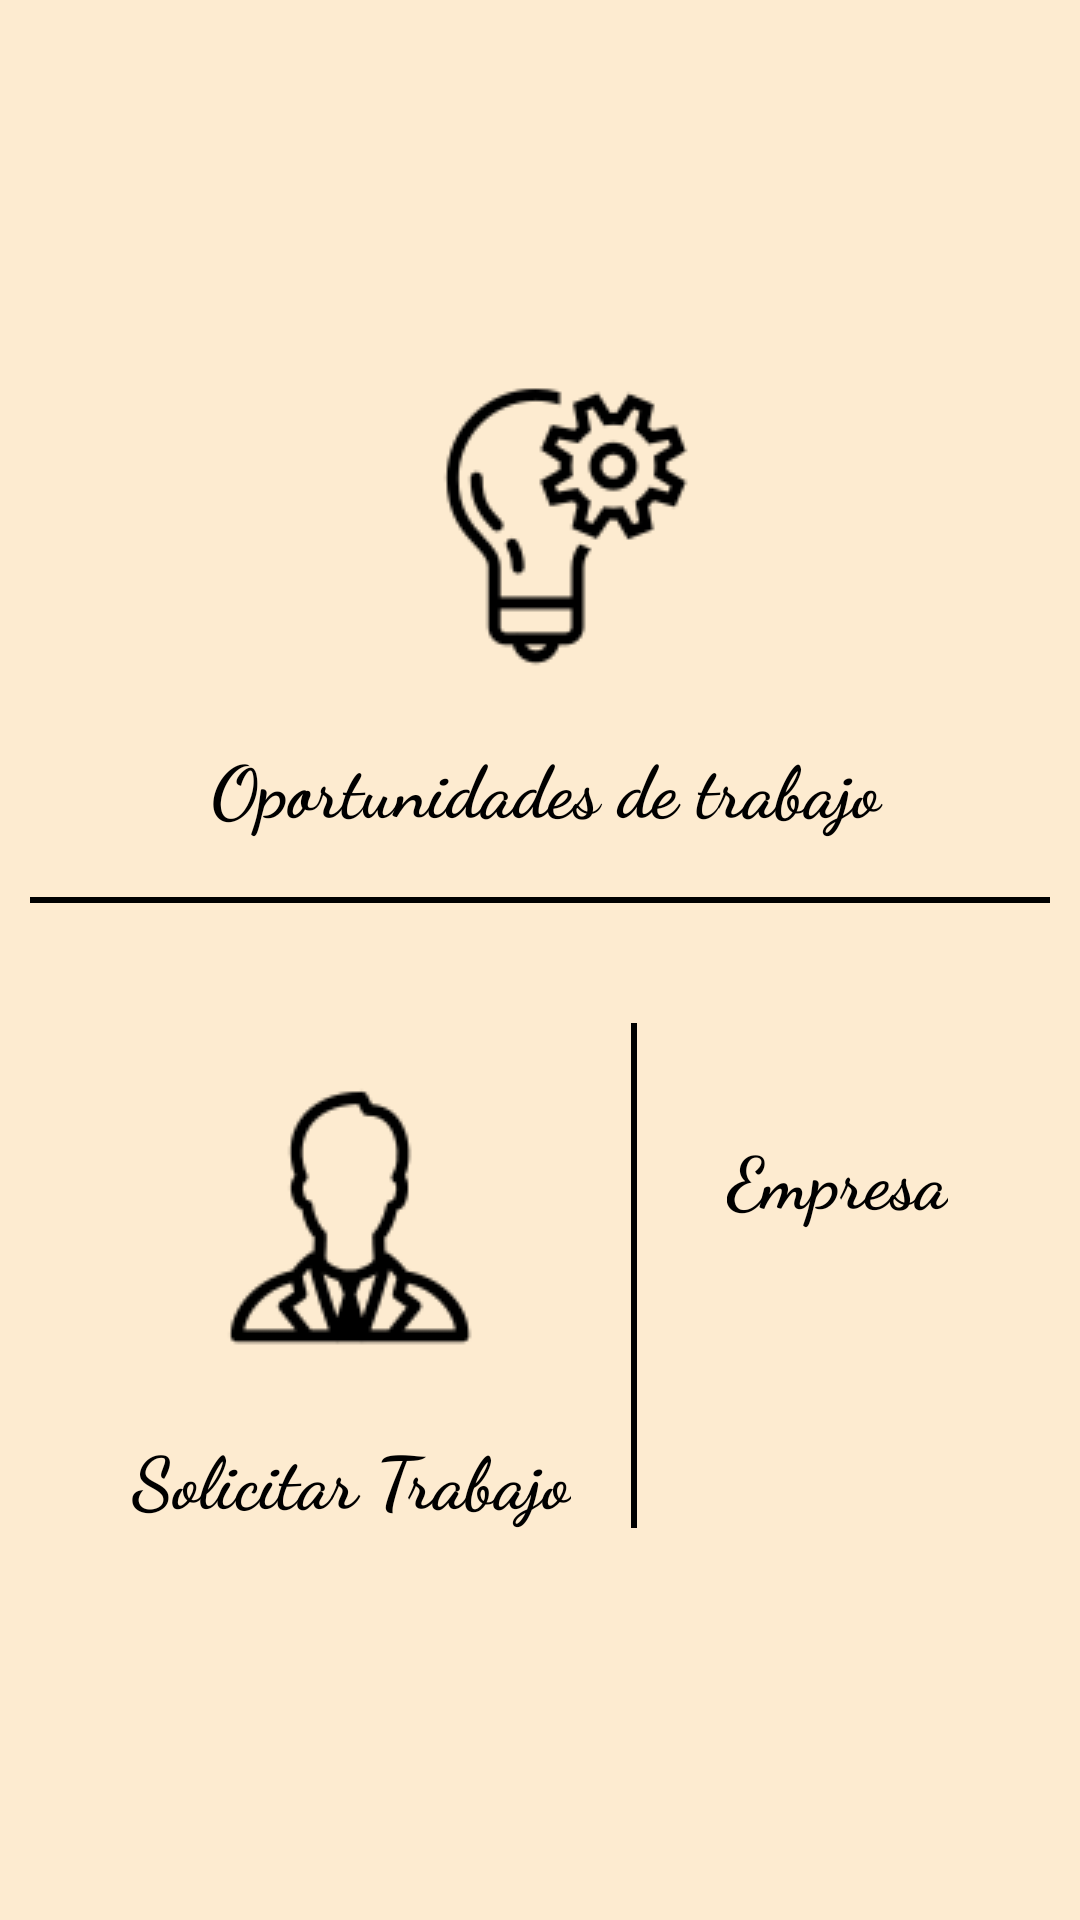

Point at icon controls on the screen. Image size 1080px×1920px, points as (x=x, y=y).
employee: (x=350, y=1218)
